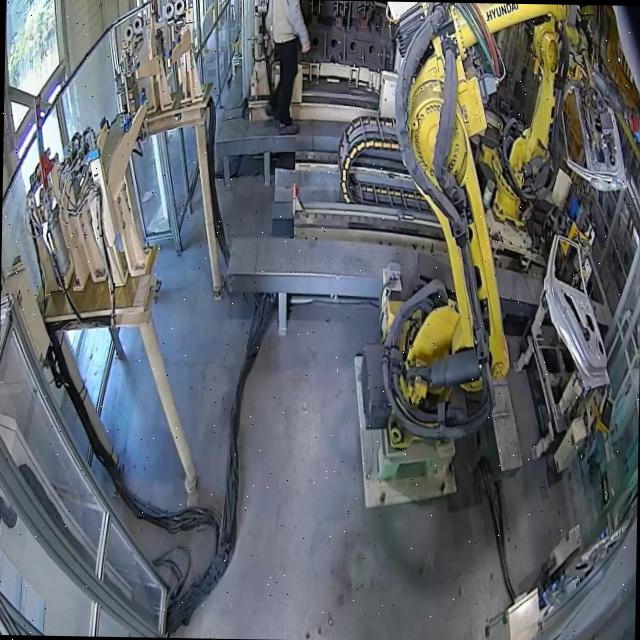Person: (262, 0, 311, 135)
